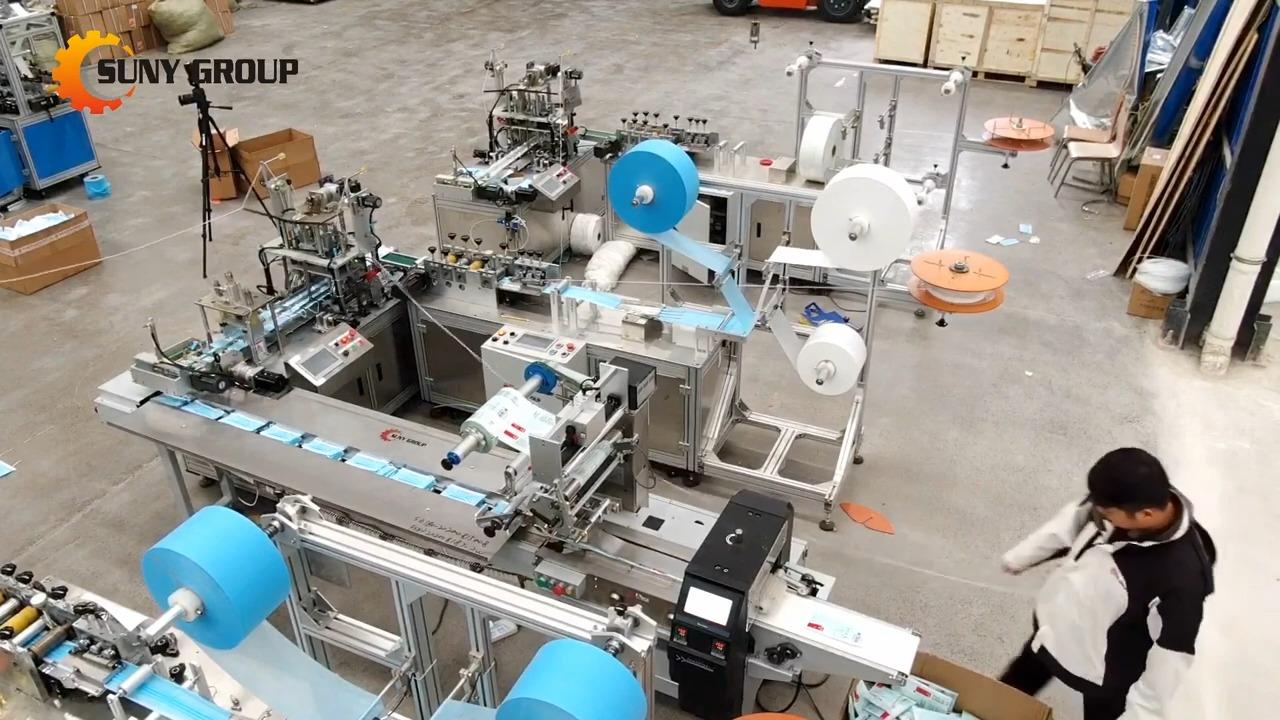mask: (439, 482, 487, 507), (180, 398, 228, 421), (390, 466, 435, 490), (218, 412, 266, 433), (344, 452, 389, 473), (302, 437, 345, 458), (260, 424, 302, 444)
